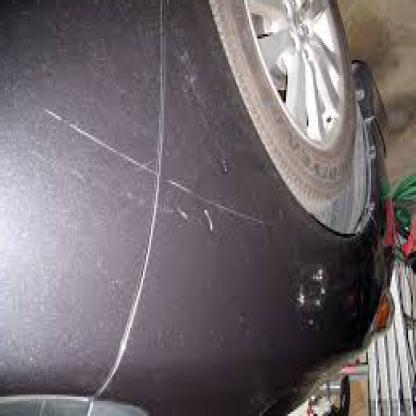dent: (293, 269, 329, 314)
